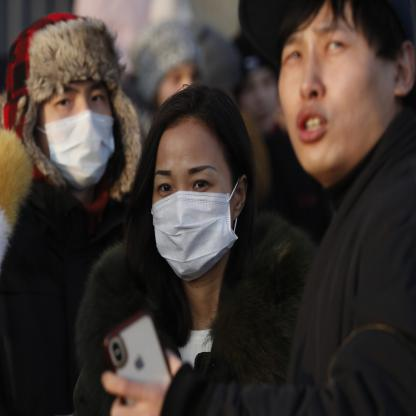Not_Wearing_Mask: (278, 21, 394, 182)
Wearing_Mask: (151, 157, 237, 283), (38, 81, 116, 185)
